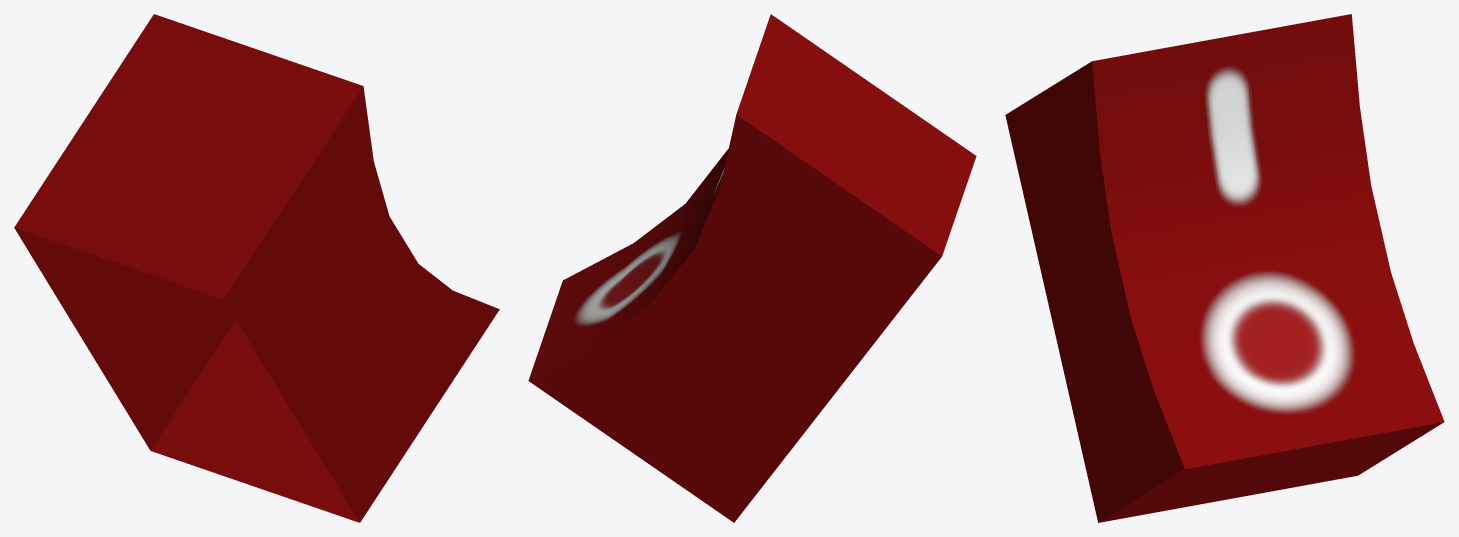
File: red button .fbx
The picture shows the model from 3 angles, left to right: view 1: azimuth 30°, elevation 25°; view 2: azimuth 150°, elevation 25°; view 3: azimuth 270°, elevation 25°; orthographic projection. The views are drawn at different scales.
Parts seen in each view (by area): view 1: Button switch; view 2: Button switch; view 3: Button switch.
Part boxes in pixels (x1,y1,x2,y2): Button switch: (14, 14, 499, 522); Button switch: (528, 14, 976, 522); Button switch: (1005, 14, 1444, 522).
Size of the model in its own units: 5.4 by 5.09 by 4.36.
1 material, 1 textured.
